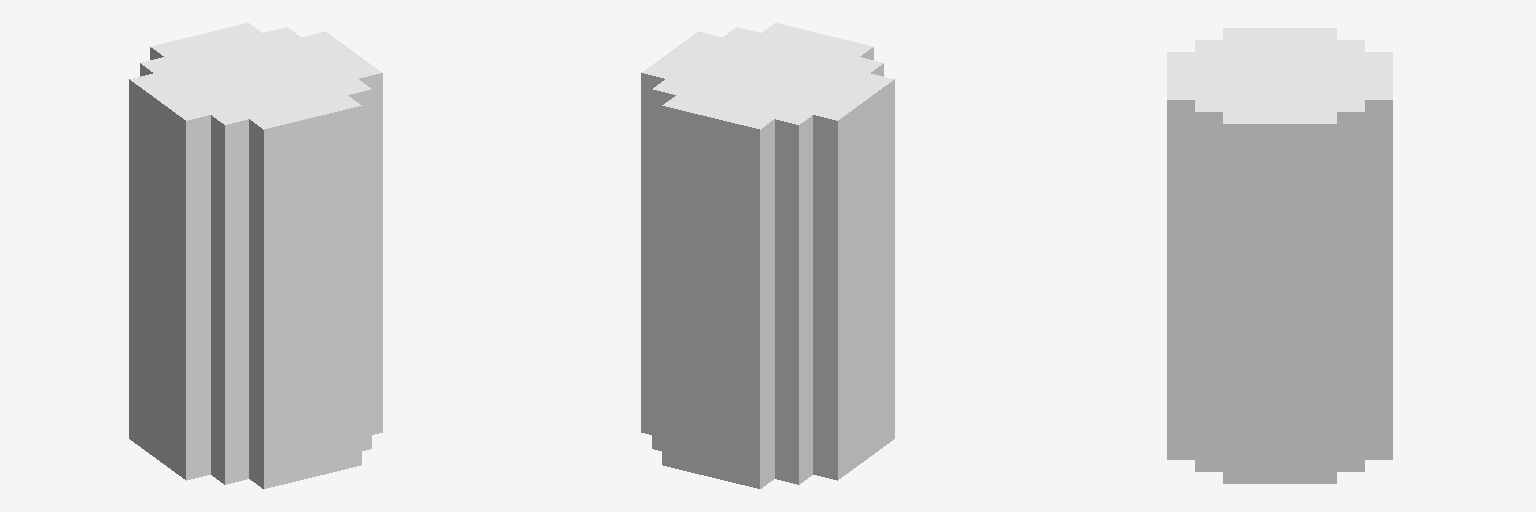
File: coca.obj
3 renders of one model, left to right at view 1: azimuth 30°, elevation 25°; view 2: azimuth 150°, elevation 25°; view 3: azimuth 270°, elevation 25°, orthographic.
Parts seen in each view (by area): view 1: object 1; view 2: object 1; view 3: object 1.
Part boxes in pixels (left/top/right/bottom): object 1: left=129, top=23, right=382, bottom=488; object 1: left=641, top=23, right=894, bottom=488; object 1: left=1167, top=28, right=1392, bottom=483.
Size of the model in its own units: 0.8 by 1.4 by 0.8.